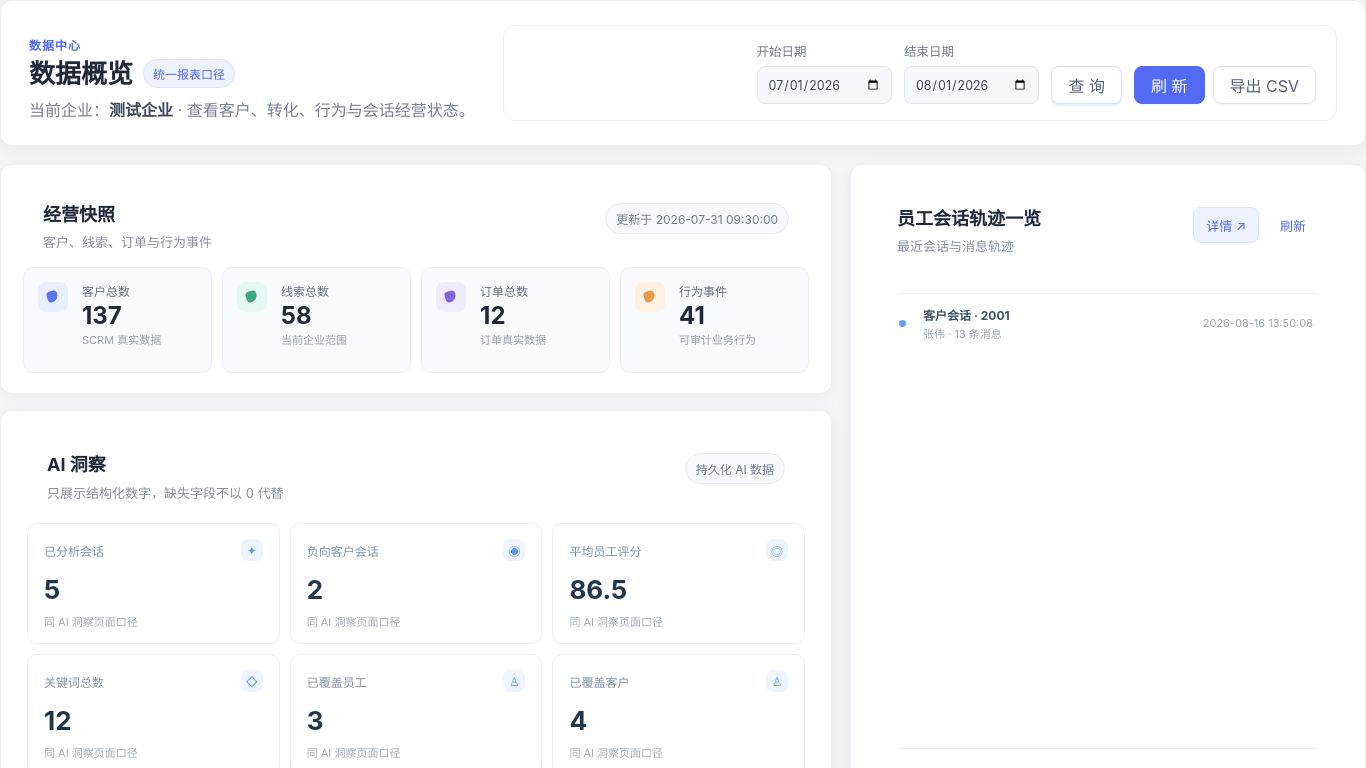
Test case: DashboardOverviewPage › shows an export error without altering the active scoped query
Expected: the text "客户总数" is shown, [82,284,130,299]
Step 1. Click the button "导出 CSV" → (1264, 85), box [1212,66,1316,104]
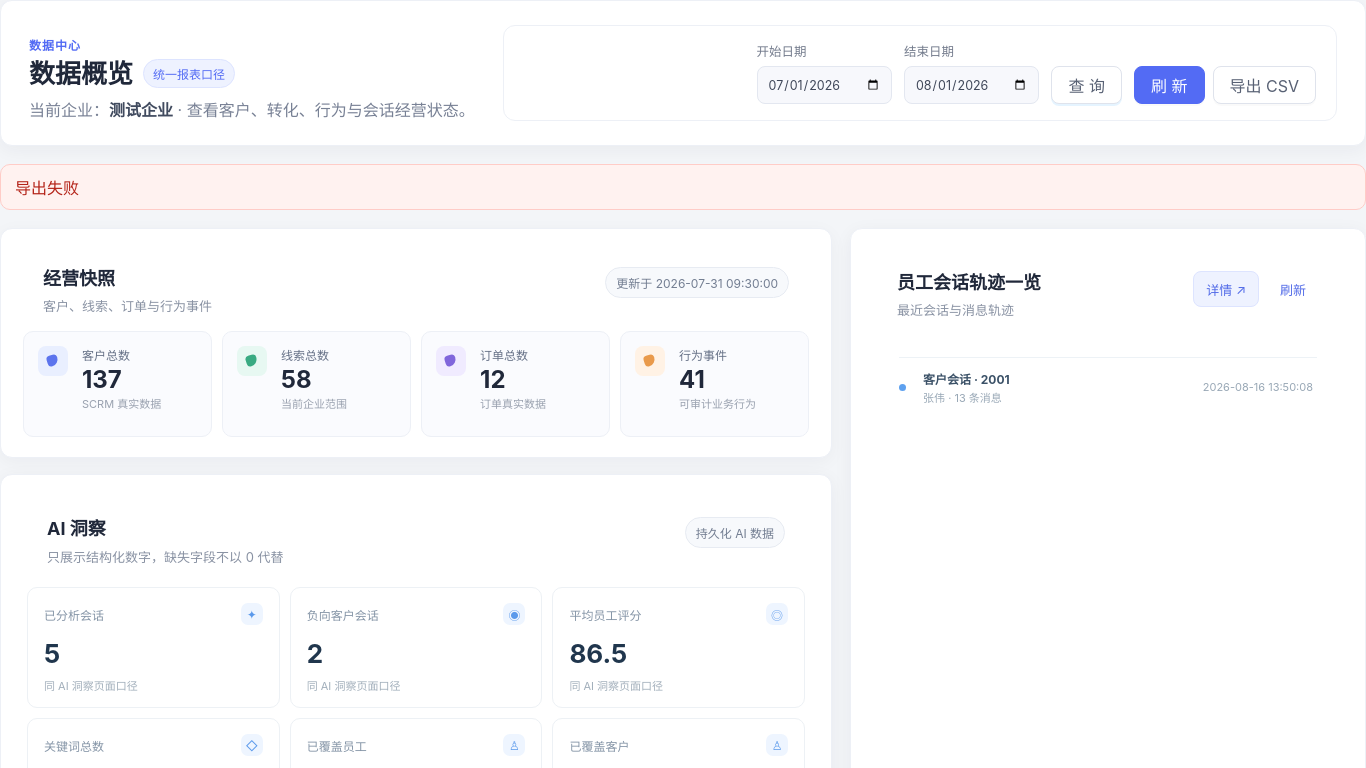
Expected: the text "导出失败" is shown, [0,164,1365,210]
